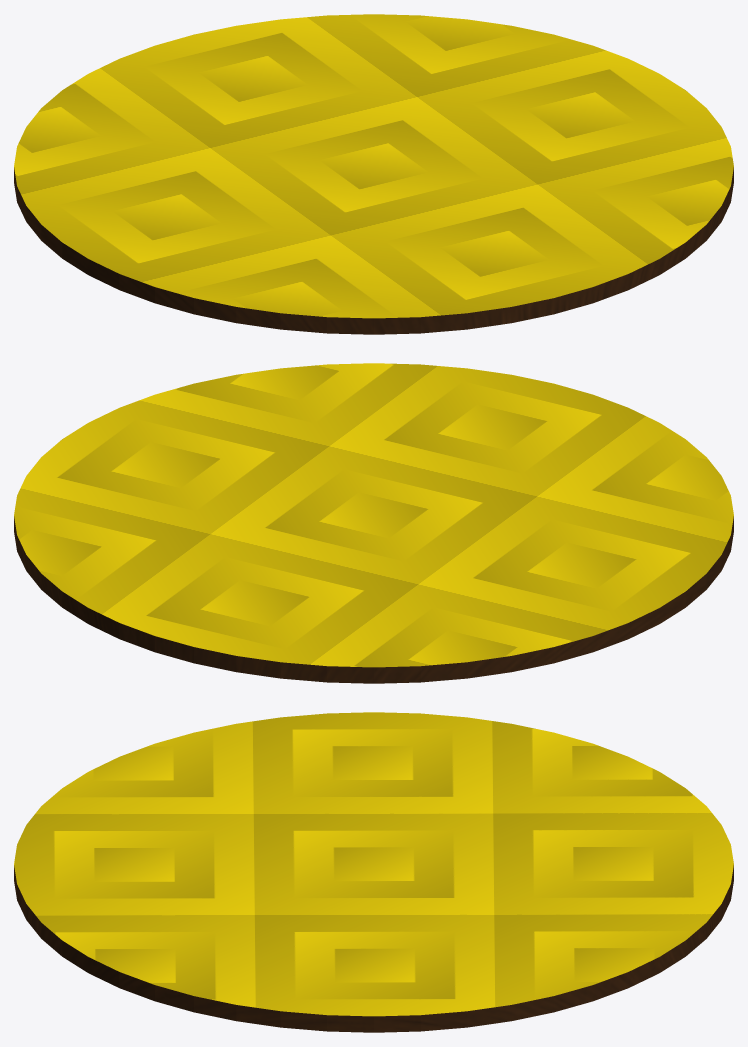
File: RingRiotBouncy.obj
The picture shows the model from 3 angles, top to bottom: view 1: azimuth 30°, elevation 25°; view 2: azimuth 150°, elevation 25°; view 3: azimuth 270°, elevation 25°; orthographic projection.
Parts seen in each view (by area): view 1: Cylinder; view 2: Cylinder; view 3: Cylinder.
Boxes of the visible parts, x1,y1,x2,y2 form: Cylinder: (14,14,733,334); Cylinder: (14,363,733,683); Cylinder: (14,712,733,1032).
Size of the model in its own units: 5 by 0.125 by 5.
